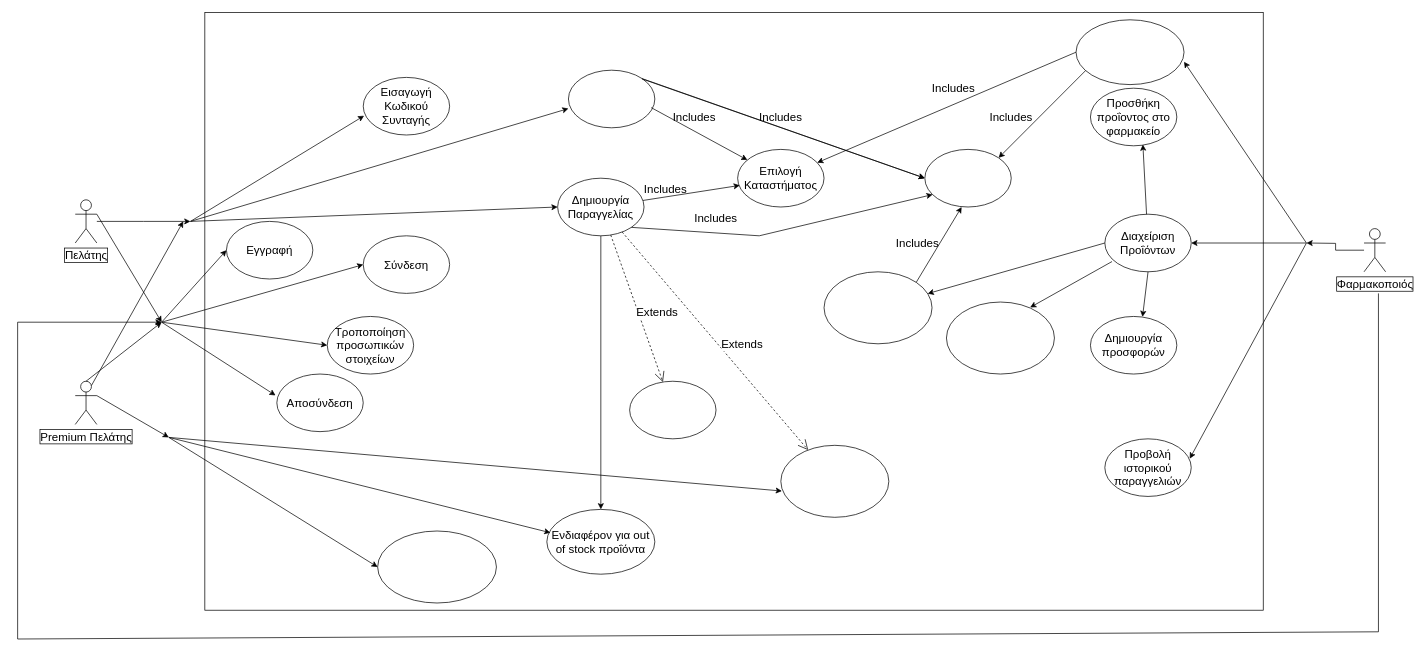
The diagram is 1426 pixels wide and 652 high, and some of its shapes have lost their labels. The centre of each missing label's shape, as x and y in pixels:
Aγαπήμενα Προΐόντα: the point at 611,98
Notification για προΐόντα που έχουν γίνει in stock: the point at 436,566
Αναζήτηση προΐόντων από τους ανταγωνιστές: the point at 1129,52
Εξαργύρωση και αναβάθμιση πόντων: the point at 834,481
Επιλογή Προΐόντος: the point at 967,178
Προβολή εναλλακτικών προΐόντων: the point at 672,410
Προβολή χρηστών Premium που ενδιαφέρονται: the point at 1000,337
Προσθήκη εναλλακτικού προΐόντος: the point at 877,307
